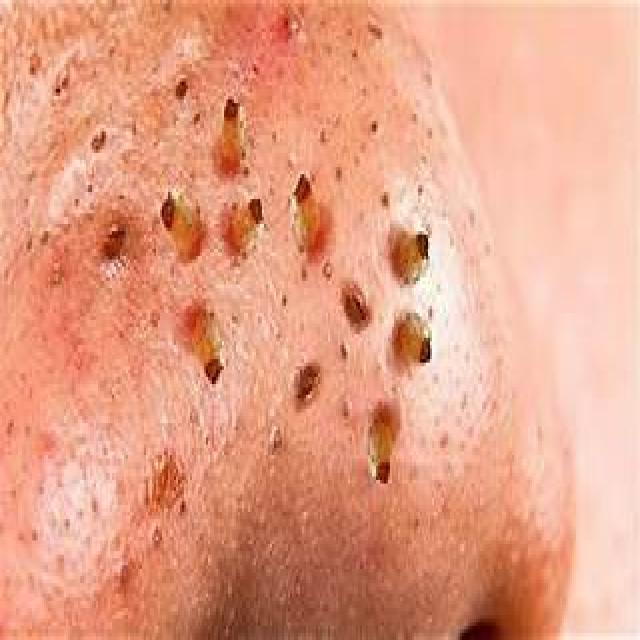Black Heads: (81, 76, 452, 497)
